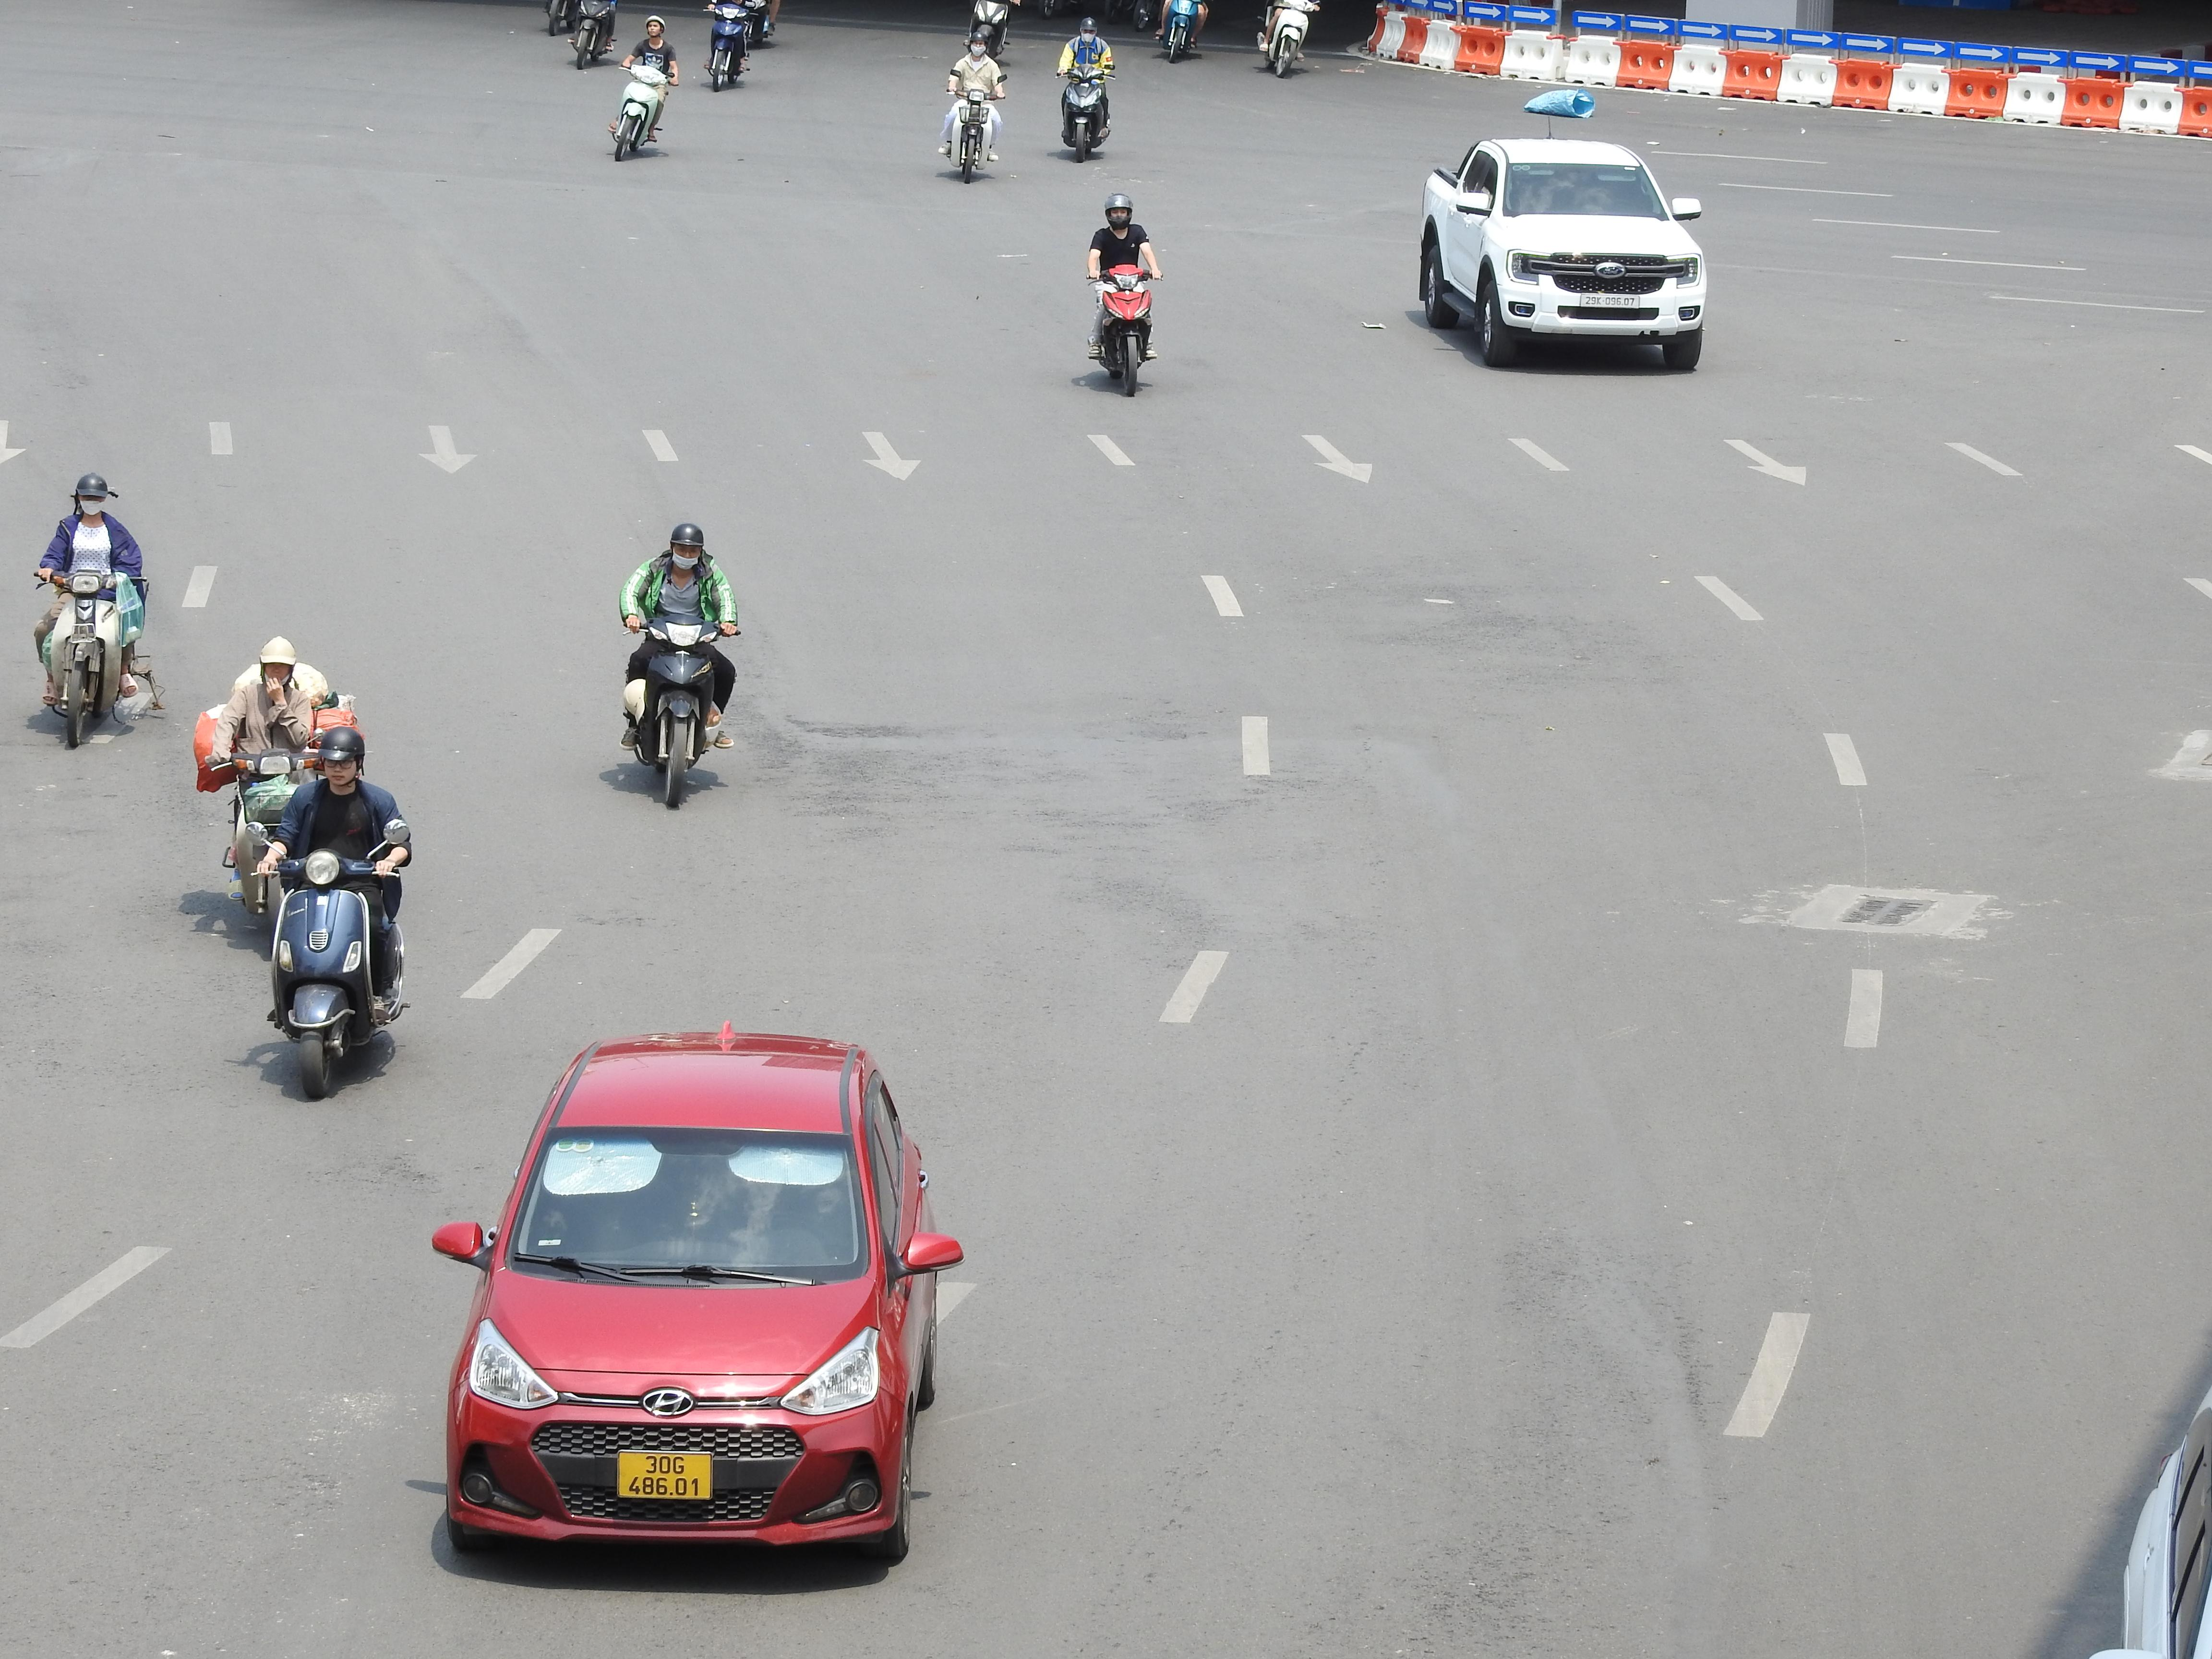BSD: (1580, 295, 1641, 310)
BSV: (617, 1452, 714, 1500)
car: (428, 1026, 965, 1565), (1416, 136, 1707, 373)
motorbike: (261, 718, 411, 1101), (200, 634, 343, 929), (33, 472, 157, 749), (620, 521, 737, 810), (1085, 193, 1160, 397), (610, 16, 676, 162), (941, 37, 1005, 181), (1055, 16, 1115, 162), (705, 0, 754, 91), (1258, 0, 1313, 78), (570, 0, 618, 68), (968, 0, 1014, 63), (1158, 0, 1204, 61)
